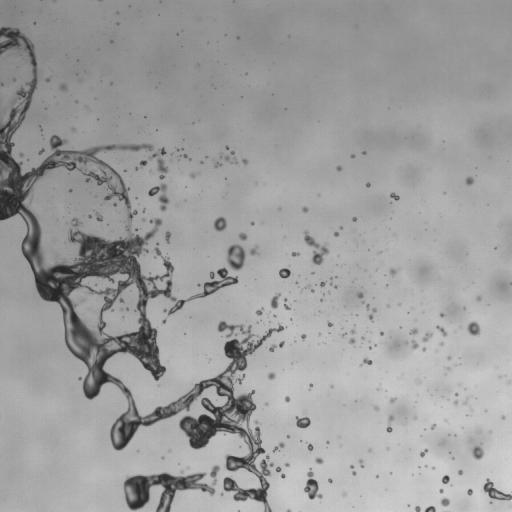droplet: (135, 147, 168, 179), (304, 231, 329, 264), (148, 183, 169, 211), (227, 244, 245, 270), (213, 217, 226, 231), (295, 416, 310, 428), (467, 321, 479, 335), (88, 211, 103, 222), (472, 446, 483, 459), (279, 268, 290, 278), (359, 358, 372, 366), (422, 332, 432, 342), (302, 284, 314, 292), (283, 298, 290, 310), (440, 497, 449, 506), (465, 176, 473, 185), (390, 192, 399, 200), (238, 232, 247, 240), (250, 246, 257, 255), (409, 328, 418, 335), (411, 340, 418, 349), (59, 84, 67, 91), (389, 268, 397, 275), (267, 372, 275, 379), (442, 475, 449, 483), (256, 308, 263, 315), (420, 449, 427, 456), (349, 337, 355, 345), (315, 457, 323, 463), (357, 291, 363, 298), (307, 444, 313, 451), (242, 158, 248, 164), (284, 396, 290, 402), (214, 162, 221, 167), (291, 252, 299, 256), (359, 459, 363, 467), (302, 207, 308, 212), (301, 334, 306, 340), (389, 397, 395, 402), (374, 405, 379, 411), (467, 489, 472, 495), (190, 173, 197, 177), (320, 281, 325, 286), (327, 321, 332, 326), (350, 329, 355, 334), (445, 367, 450, 372), (276, 467, 281, 472), (415, 506, 420, 511), (336, 166, 341, 170), (366, 182, 370, 187), (334, 232, 339, 236), (476, 296, 481, 300), (416, 379, 421, 383), (463, 399, 467, 404), (454, 400, 458, 405), (431, 424, 435, 429), (457, 470, 462, 474), (281, 473, 285, 478), (46, 77, 50, 81), (352, 217, 356, 221), (162, 319, 166, 323), (352, 471, 356, 475), (439, 489, 443, 493), (309, 383, 312, 388), (231, 150, 234, 154), (19, 153, 23, 156), (351, 154, 354, 158), (440, 313, 444, 316), (422, 347, 425, 351), (285, 463, 289, 466), (328, 479, 332, 482), (362, 151, 365, 154), (69, 189, 72, 192), (251, 222, 254, 225), (342, 333, 345, 336), (380, 332, 383, 335), (447, 356, 450, 359), (455, 393, 458, 396), (414, 416, 417, 419), (12, 78, 15, 80), (72, 128, 75, 130), (226, 146, 228, 149), (143, 209, 145, 212), (502, 416, 504, 419), (287, 435, 289, 438), (351, 465, 353, 468), (39, 126, 41, 128), (142, 218, 144, 220), (198, 284, 200, 286), (362, 337, 364, 339), (405, 342, 407, 344), (440, 342, 442, 344), (369, 347, 371, 349), (387, 447, 389, 449), (343, 493, 345, 495)
ligament: (0, 27, 284, 511), (123, 465, 219, 511), (483, 478, 511, 500), (304, 469, 322, 499), (366, 304, 376, 321), (219, 154, 237, 163), (270, 292, 280, 308), (269, 341, 284, 351), (386, 415, 394, 432), (436, 326, 447, 336), (273, 442, 284, 452), (330, 278, 337, 288), (165, 231, 170, 242), (424, 506, 435, 511), (181, 154, 190, 160), (38, 148, 44, 154), (0, 79, 3, 85), (286, 509, 291, 511), (444, 510, 449, 511), (0, 100, 1, 104)
